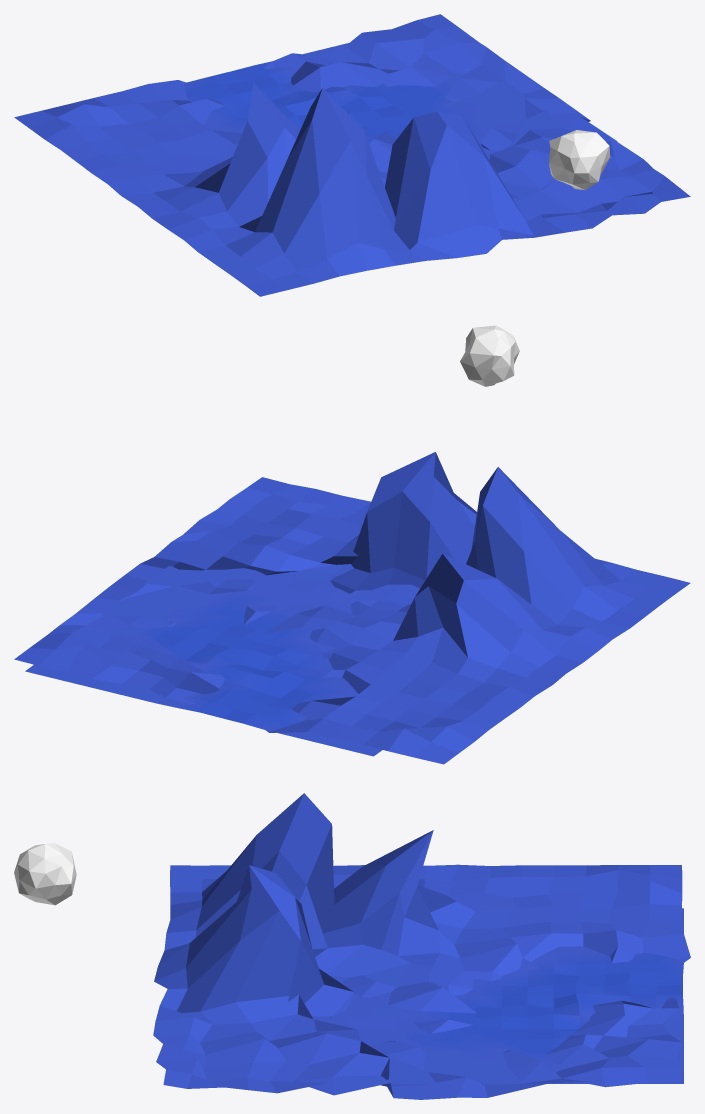
The model's file is Low_poly_Mountain.glb.
3 renders of one model, top to bottom at view 1: azimuth 30°, elevation 25°; view 2: azimuth 150°, elevation 25°; view 3: azimuth 270°, elevation 25°, orthographic. The views are drawn at different scales.
Visible parts, largest first — view 1: Plane_0, Plane_1, Plane.001_0, Plane_2, Icosphere_0; view 2: Plane_0, Plane_1, Plane.001_0, Plane_2, Icosphere_0; view 3: Plane_0, Plane_1, Plane.001_0, Plane_2, Icosphere_0.
Boxes of the visible parts, x1,y1,x2,y2 form: Plane_0: (14,14,690,296); Plane_1: (185,117,532,272); Plane.001_0: (184,43,566,172); Plane_2: (247,83,483,192); Icosphere_0: (549,130,610,189); Plane_0: (14,477,690,764); Plane_1: (351,476,621,673); Plane.001_0: (25,564,419,756); Plane_2: (367,452,557,603); Icosphere_0: (460,325,519,386); Plane_0: (153,864,690,1099); Plane_1: (154,825,475,1012); Plane.001_0: (312,908,683,1083); Plane_2: (236,793,433,940); Icosphere_0: (14,843,76,905).
Bounding box in the file's own units: 16.57 × 6.58 × 21.15.
